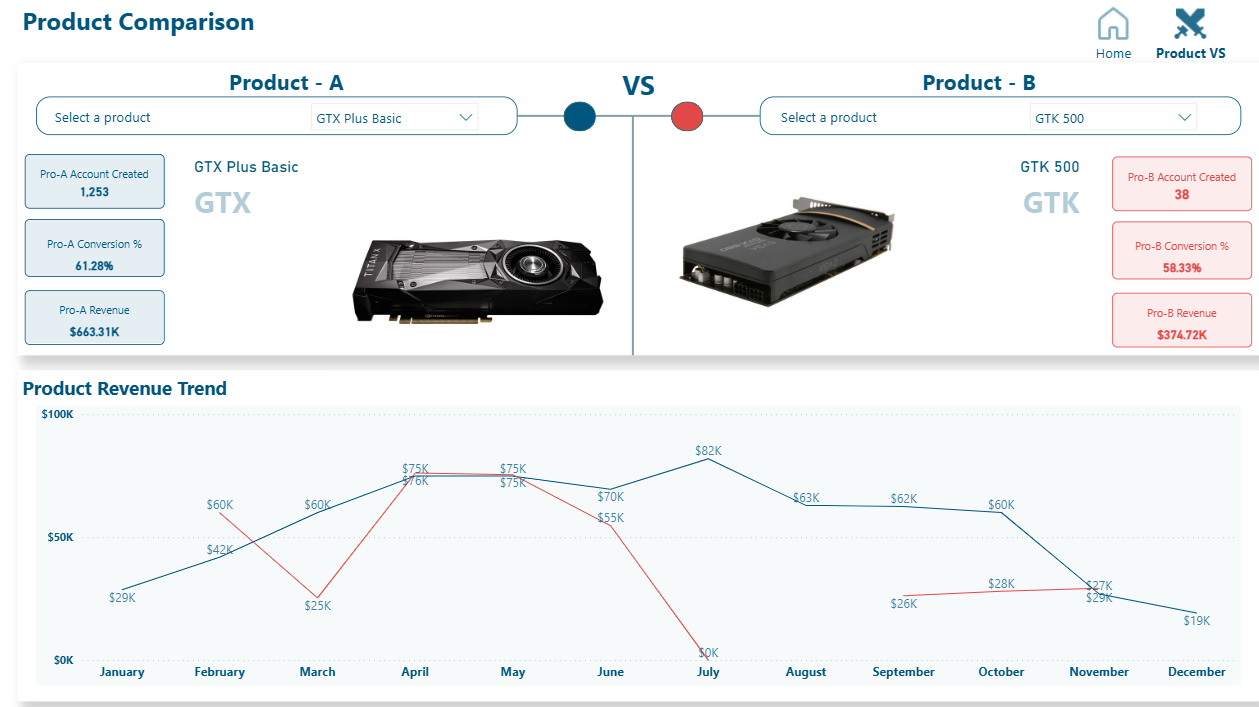

The dashboard page shown, as its layout file describes it:
{"tool":"powerbi","page":{"name":"Product Comparison","canvas":[1280,720],"ordinal":1},"visuals":[{"type":"shape","title":"KPI SHAPE","box":[21.1,68.4,1237.7,291.1],"z":0},{"type":"textbox","box":[53.5,108.2,114.4,27.4],"z":1000},{"type":"cardVisual","fields":{"Data":["Min(Products Details (3).Product)"]},"box":[180.4,145.5,441.6,214],"z":2000},{"type":"shape","box":[39.8,102,478.9,38.6],"z":3000},{"type":"slicer","fields":{"Values":["Products Details (3).Product"]},"box":[307.3,102,179.1,34.8],"z":4000},{"type":"shape","box":[622,121.9,23.6,237.6],"z":5000},{"type":"shape","box":[518.7,113.2,241.3,16.2],"z":6000},{"type":"shape","box":[760.1,102,478.9,38.6],"z":7000},{"type":"textbox","box":[776.2,108.2,114.4,27.4],"z":8000},{"type":"slicer","fields":{"Values":["Products Details (2).Product"]},"box":[1022.5,102,179.1,34.8],"z":9000},{"type":"cardVisual","fields":{"Data":["Min(Products Details (2).Product)"]},"box":[645.6,145.5,450.3,214],"z":10000},{"type":"shape","box":[564.8,107,32.3,29.9],"z":11000},{"type":"shape","box":[671.7,107,32.3,29.9],"z":12000},{"type":"shape","title":"KPI SHAPE","box":[21.1,374.4,1237.7,329.6],"z":13000},{"type":"lineChart","fields":{"Category":["Date.Month"],"Y":["Measures (2).Pro-A Revenue","Measures (2).Pro-B Revenue"]},"box":[39.8,409.3,1199.2,278.6],"z":14000},{"type":"textbox","box":[21.1,374.4,235.1,34.8],"z":15000},{"type":"cardVisual","fields":{"Data":["Measures (2).Pro-A Account Created"]},"box":[28.6,159.2,139.3,54.7],"z":16000},{"type":"cardVisual","fields":{"Data":["Measures (2).Pro-A Conversion %"]},"box":[28.6,223.9,139.3,57.2],"z":17000},{"type":"cardVisual","fields":{"Data":["Measures (2).Pro-A Revenue"]},"box":[28.6,294.8,139.3,54.7],"z":18000},{"type":"textbox","box":[171.7,67.2,235.1,34.8],"z":19000},{"type":"textbox","box":[860.8,67.2,235.1,34.8],"z":20000},{"type":"textbox","box":[517.5,67.2,243.8,41.1],"z":21000},{"type":"cardVisual","fields":{"Data":["Measures (2).Pro-B Account Created"]},"box":[1110.4,162.3,139.3,54.7],"z":22000},{"type":"cardVisual","fields":{"Data":["Measures (2).Pro-B Conversion %"]},"box":[1110.4,226.9,139.3,57.2],"z":23000},{"type":"cardVisual","fields":{"Data":["Measures (2).Pro-B Revenue"]},"box":[1110.4,297.9,139.3,54.7],"z":24000},{"type":"actionButton","box":[1084.7,0,55,67.2],"z":25000},{"type":"textbox","box":[21.1,5,381.9,43.5],"z":26000},{"type":"actionButton","box":[1149.4,0,79.6,67],"z":27000}]}

Visuals, with their boxes in screenshot pixels (x1, y1, x2, y2), scaled from the page's 1280x720 canvas onto the 1259x707 screenshot:
"KPI SHAPE" shape: [21, 67, 1238, 353]
textbox: [53, 106, 165, 133]
cardVisual - Min(Products Details (3).Product): [177, 143, 612, 353]
shape: [39, 100, 510, 138]
slicer - Products Details (3).Product: [302, 100, 478, 134]
shape: [612, 120, 635, 353]
shape: [510, 111, 748, 127]
shape: [748, 100, 1219, 138]
textbox: [763, 106, 876, 133]
slicer - Products Details (2).Product: [1006, 100, 1182, 134]
cardVisual - Min(Products Details (2).Product): [635, 143, 1078, 353]
shape: [556, 105, 587, 134]
shape: [661, 105, 692, 134]
"KPI SHAPE" shape: [21, 368, 1238, 691]
lineChart - Date.Month x Measures (2).Pro-A Revenue: [39, 402, 1219, 675]
textbox: [21, 368, 252, 402]
cardVisual - Measures (2).Pro-A Account Created: [28, 156, 165, 210]
cardVisual - Measures (2).Pro-A Conversion %: [28, 220, 165, 276]
cardVisual - Measures (2).Pro-A Revenue: [28, 289, 165, 343]
textbox: [169, 66, 400, 100]
textbox: [847, 66, 1078, 100]
textbox: [509, 66, 749, 106]
cardVisual - Measures (2).Pro-B Account Created: [1092, 159, 1229, 213]
cardVisual - Measures (2).Pro-B Conversion %: [1092, 223, 1229, 279]
cardVisual - Measures (2).Pro-B Revenue: [1092, 293, 1229, 346]
actionButton: [1067, 0, 1121, 66]
textbox: [21, 5, 396, 48]
actionButton: [1131, 0, 1209, 66]
